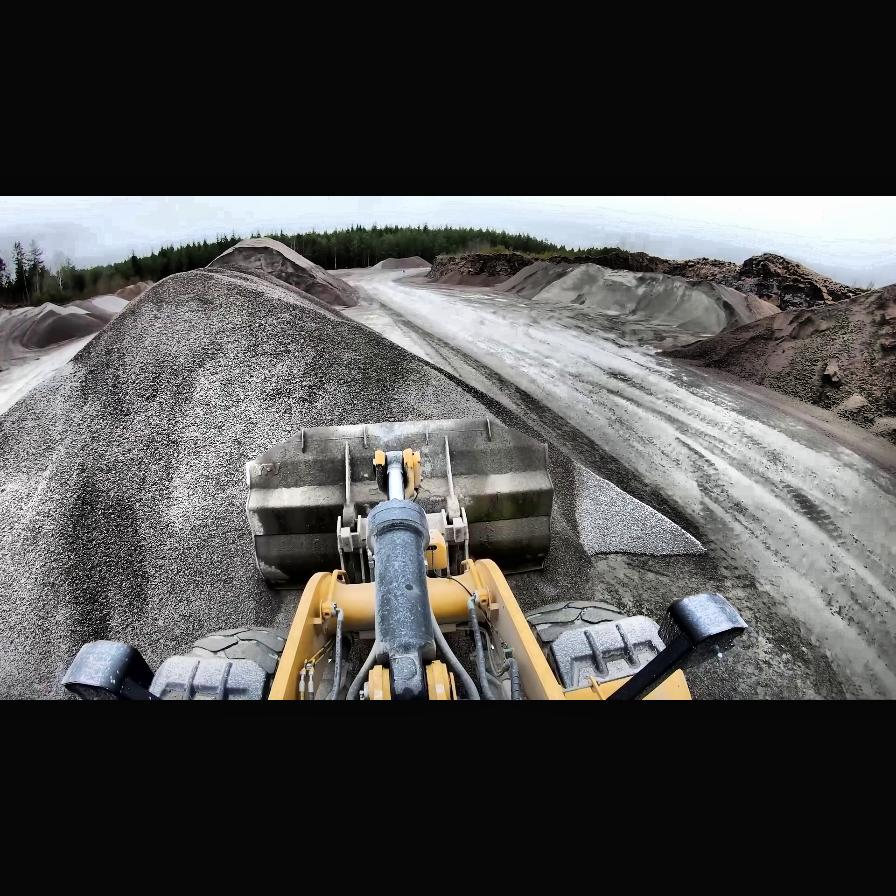anchor: (374, 447, 420, 500)
pile of gravel: (4, 262, 710, 560), (38, 264, 386, 406), (654, 279, 896, 449), (533, 264, 721, 336), (2, 284, 150, 374), (205, 235, 359, 308), (372, 256, 432, 270)
